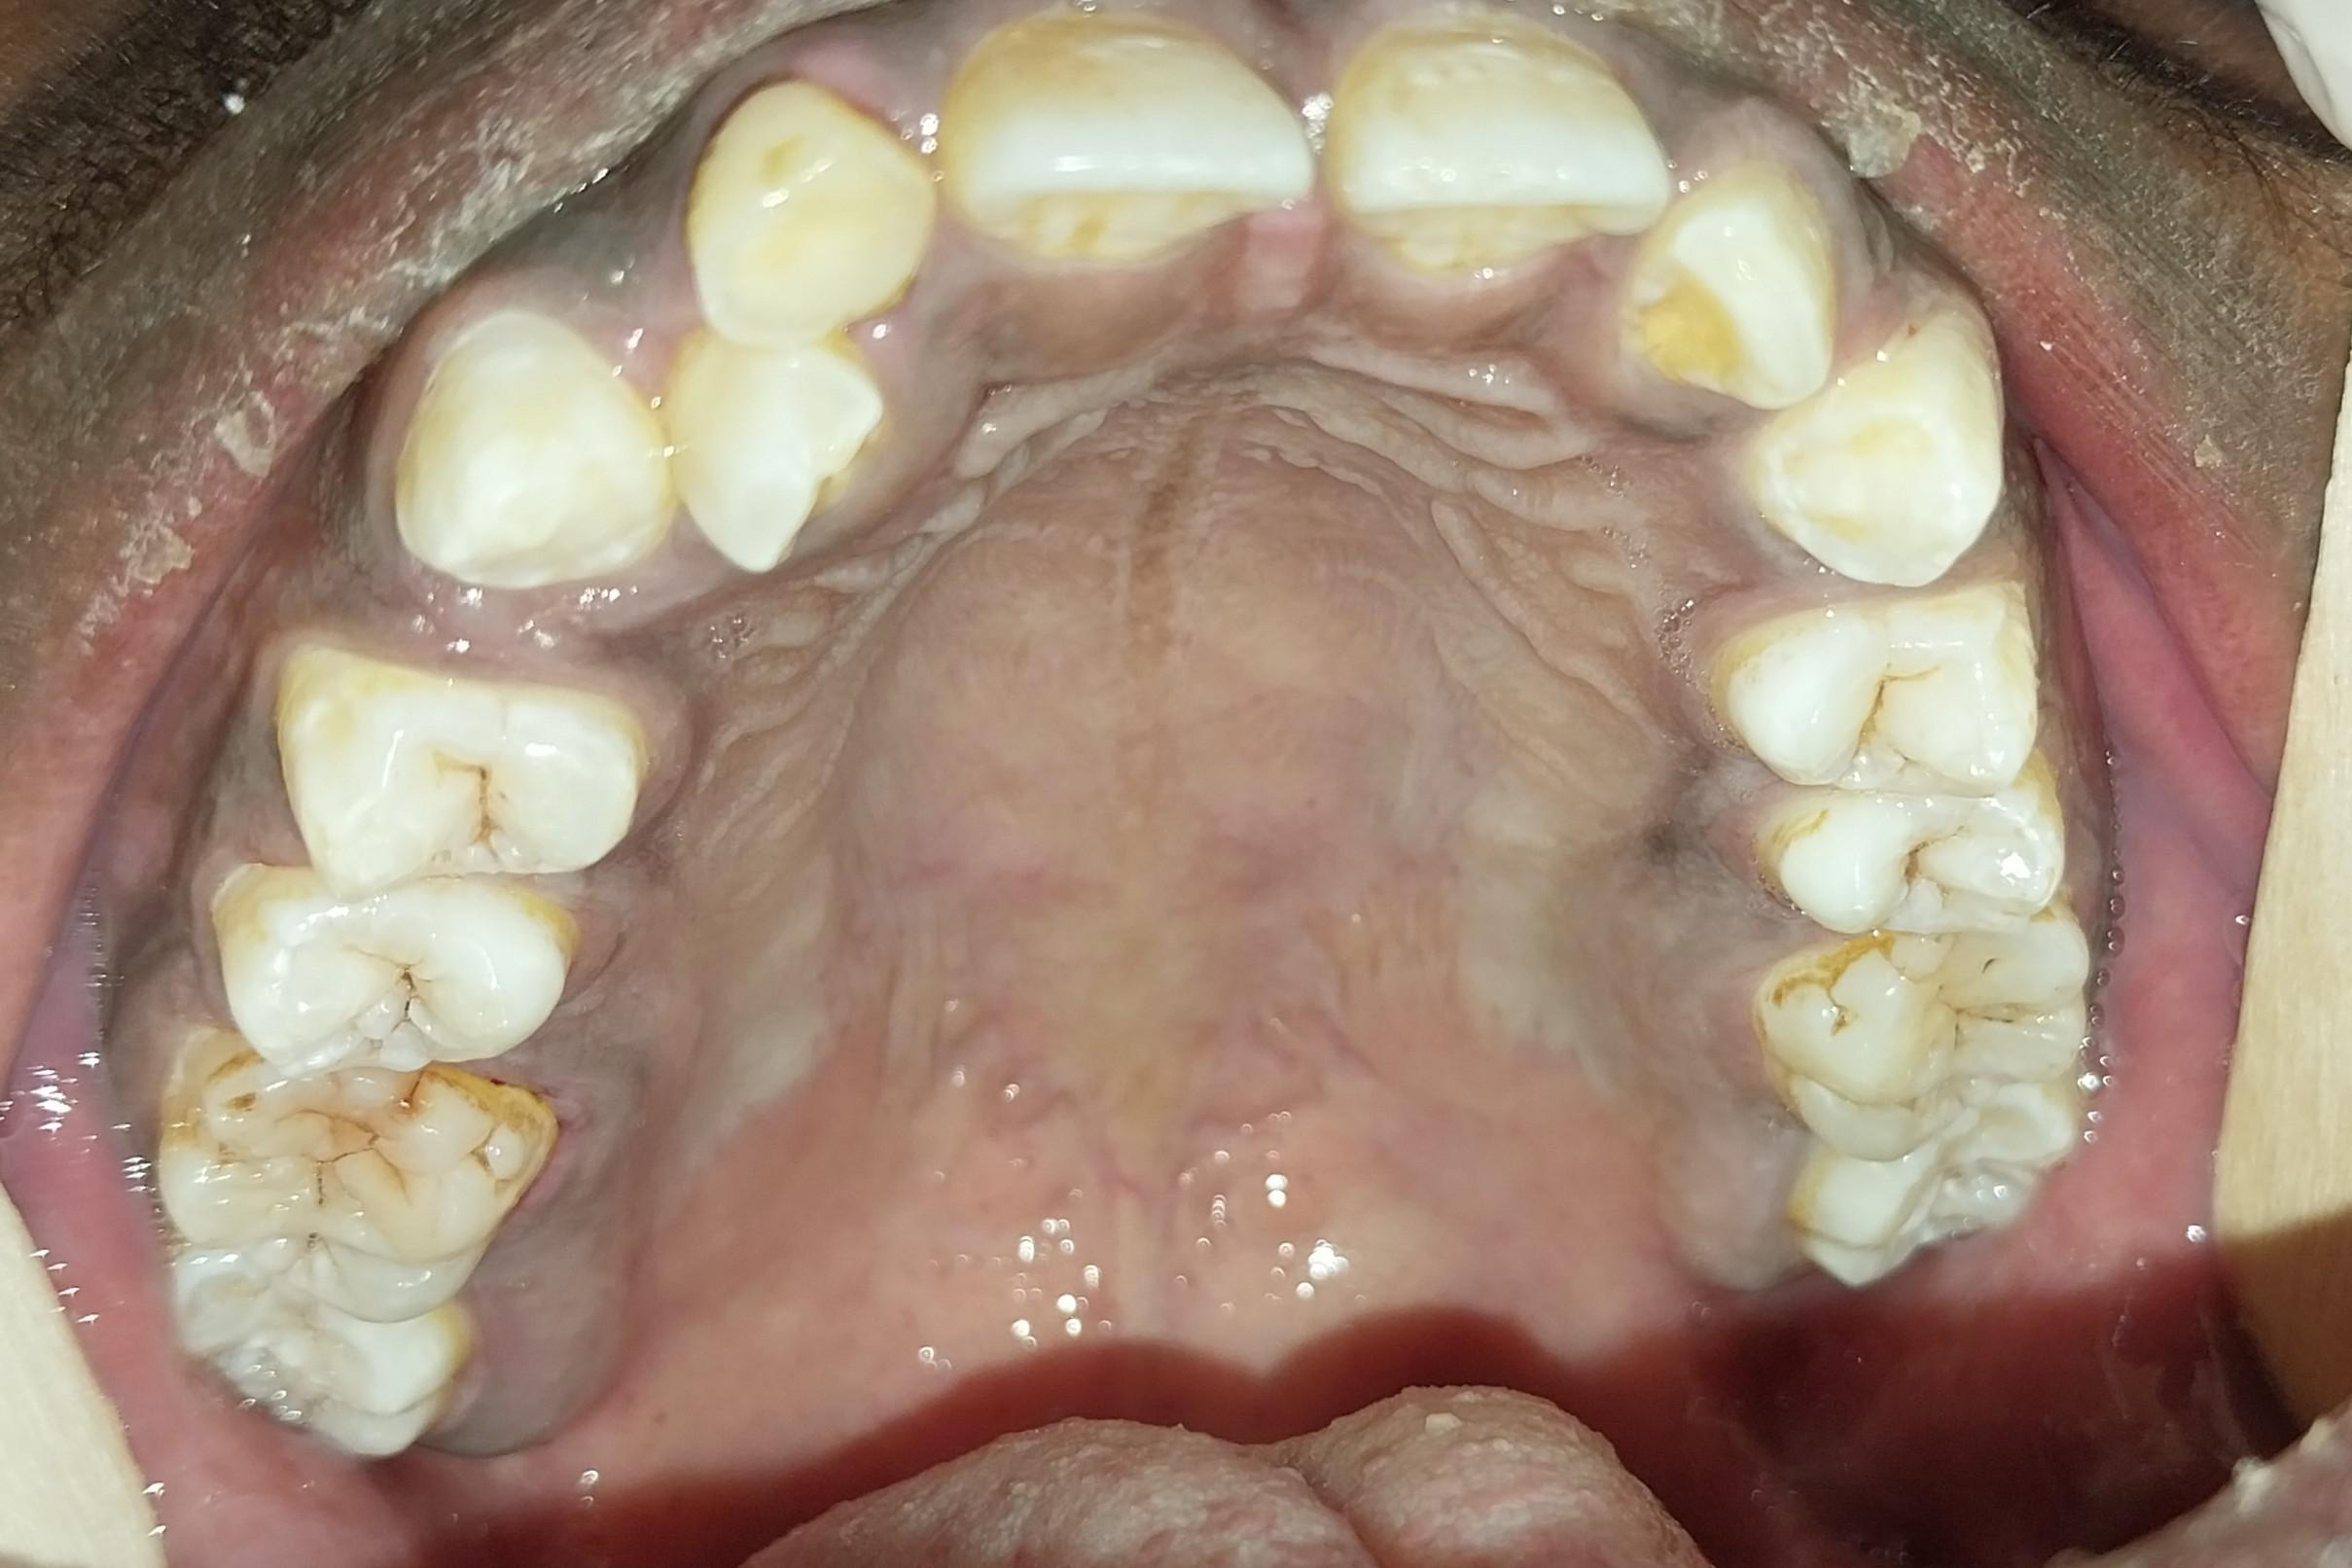D: (167, 1035, 549, 1321), (295, 659, 638, 900), (1775, 935, 2097, 1167), (225, 875, 559, 1084), (1711, 600, 2046, 800), (1762, 778, 2084, 945)
